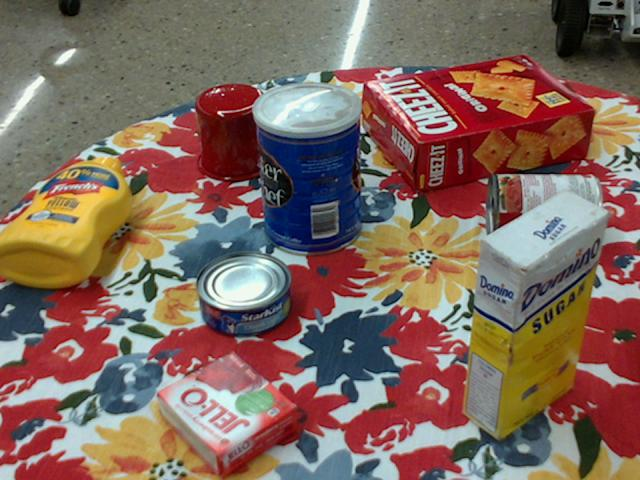cracker_box: (364, 56, 595, 193)
gelatin_box: (158, 354, 300, 479)
master_chef_can: (252, 81, 362, 255)
mug: (194, 83, 296, 182)
mustard_bottle: (0, 157, 131, 287)
sugar_box: (464, 187, 609, 442)
tomato_soup_can: (487, 173, 603, 241)
tuna_fish_can: (195, 252, 291, 338)
